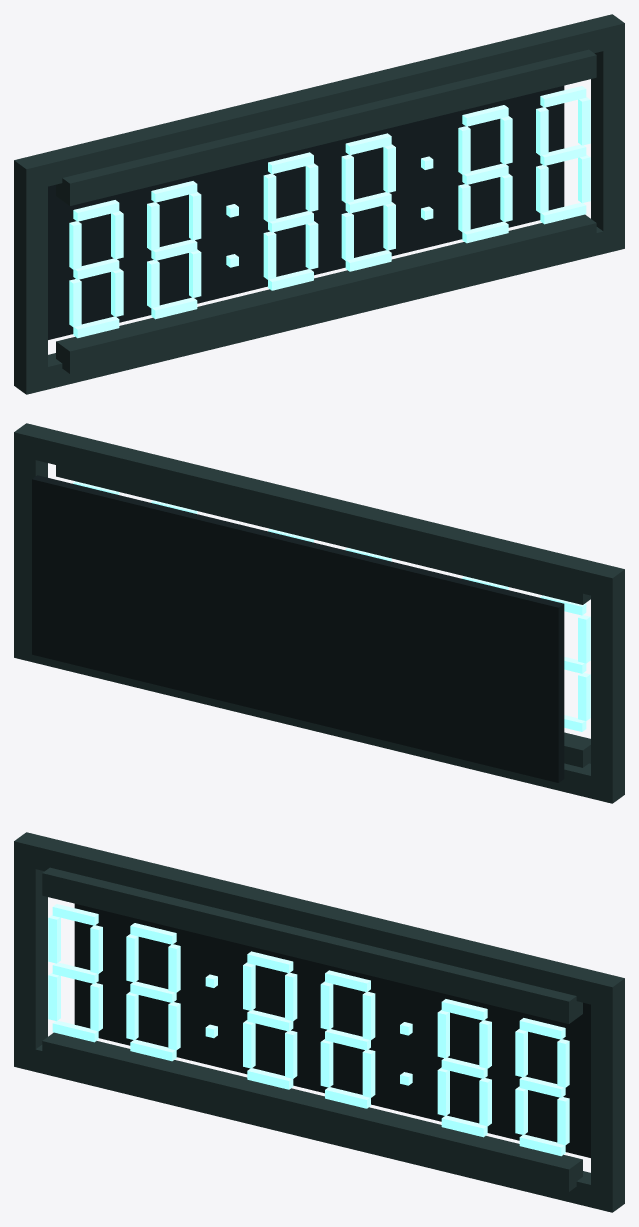
3 renders of one model, top to bottom at view 1: azimuth 30°, elevation 25°; view 2: azimuth 150°, elevation 25°; view 3: azimuth 330°, elevation 25°, orthographic.
Visible parts, largest first — view 1: digital-display-back, digital-groove-bottom, digital-frame-top, digital-groove-top, digital-frame-bottom, digital-frame-left, digital-frame-right, clock-digit-3-f, clock-digit-3-e, clock-digit-3-b, clock-digit-3-c, clock-digit-2-a (+37 smaller); view 2: digital-display-back, digital-frame-top, digital-groove-top, digital-frame-bottom, digital-frame-left, digital-frame-right, digital-groove-bottom, clock-digit-1-f, clock-digit-1-e; view 3: digital-display-back, digital-groove-bottom, digital-frame-top, digital-groove-top, digital-frame-bottom, digital-frame-right, digital-frame-left, clock-digit-4-b, clock-digit-4-c, clock-digit-4-f, clock-digit-4-e, clock-digit-5-a (+37 smaller).
Part boxes in pixels (box(x1,y1,x2,y2)): digital-display-back: box(48, 85, 564, 339); digital-groove-bottom: box(56, 214, 596, 373); digital-frame-top: box(14, 14, 624, 191); digital-groove-top: box(56, 49, 596, 205); digital-frame-bottom: box(14, 226, 624, 394); digital-frame-left: box(14, 183, 47, 372); digital-frame-right: box(591, 46, 624, 231); clock-digit-3-f: box(263, 173, 276, 222); clock-digit-3-e: box(263, 231, 276, 279); clock-digit-3-b: box(305, 163, 318, 211); clock-digit-3-c: box(305, 221, 318, 269); clock-digit-2-a: box(151, 181, 197, 202); digital-display-back: box(32, 475, 564, 782); digital-frame-top: box(14, 423, 624, 600); digital-groove-top: box(56, 465, 590, 604); digital-frame-bottom: box(14, 635, 624, 803); digital-frame-left: box(591, 592, 624, 781); digital-frame-right: box(14, 455, 47, 639); digital-groove-bottom: box(564, 732, 590, 767); clock-digit-1-f: box(578, 615, 590, 663); clock-digit-1-e: box(578, 673, 590, 720); digital-display-back: box(74, 903, 590, 1157); digital-groove-bottom: box(42, 1032, 582, 1191); digital-frame-top: box(14, 832, 624, 1009); digital-groove-top: box(42, 867, 582, 1023); digital-frame-bottom: box(14, 1044, 624, 1212); digital-frame-right: box(591, 1001, 624, 1190); digital-frame-left: box(14, 864, 47, 1049); clock-digit-4-b: box(362, 991, 375, 1040); clock-digit-4-c: box(362, 1049, 375, 1097); clock-digit-4-f: box(320, 981, 333, 1029); clock-digit-4-e: box(320, 1039, 333, 1087); clock-digit-5-a: box(441, 999, 487, 1020).
Size of the model in its own units: 0.5 by 0.18 by 0.055.
